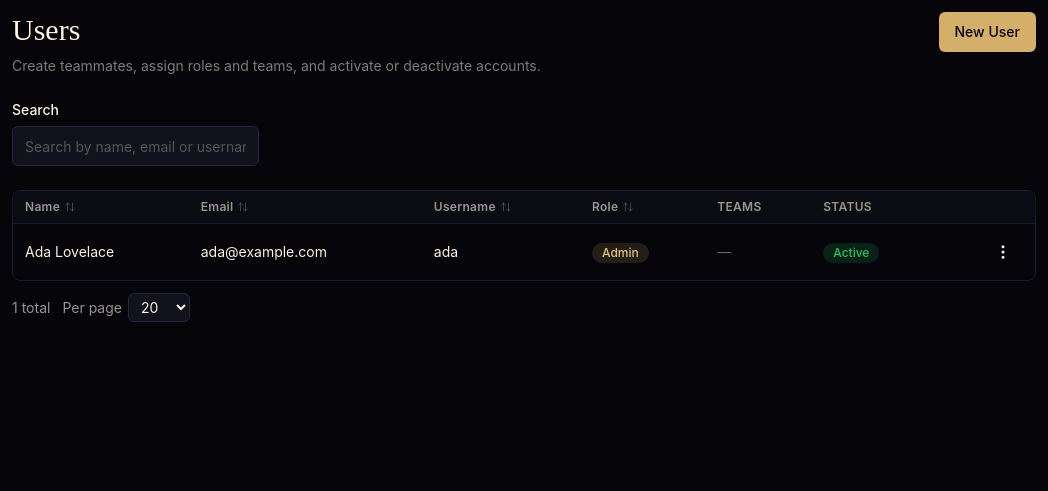
UsersPage › disables every role option and Deactivate on the current admin's own row
Expected: the text "Ada Lovelace" is shown, [13, 224, 189, 280]
Click the button named "Actions for".
click(1003, 252)  # box [983, 232, 1023, 272]
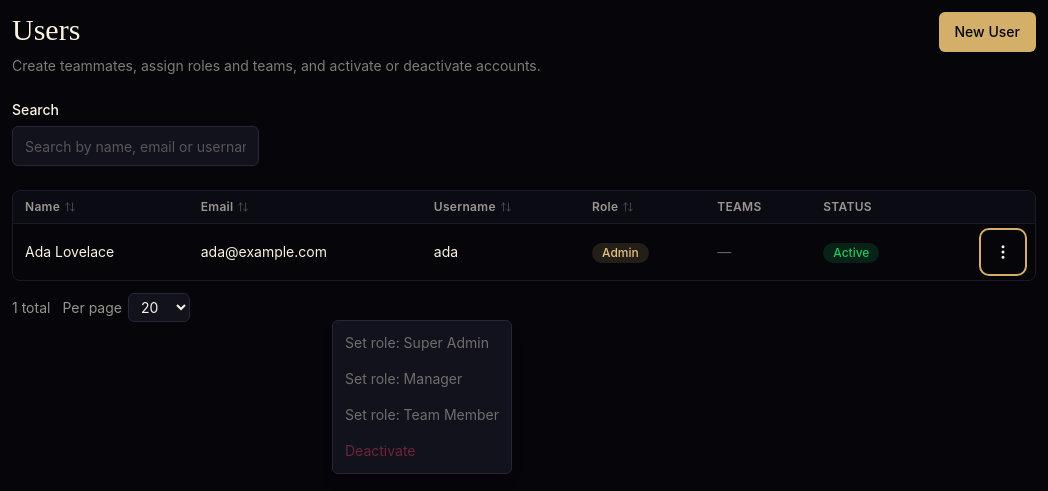
Result: the menu item "Set role: Super Admin" is disabled at [333, 325, 511, 361]
Result: the menu item "Set role: Manager" is disabled at [333, 361, 511, 397]
Result: the menu item "Set role: Team Member" is disabled at [333, 397, 511, 433]
